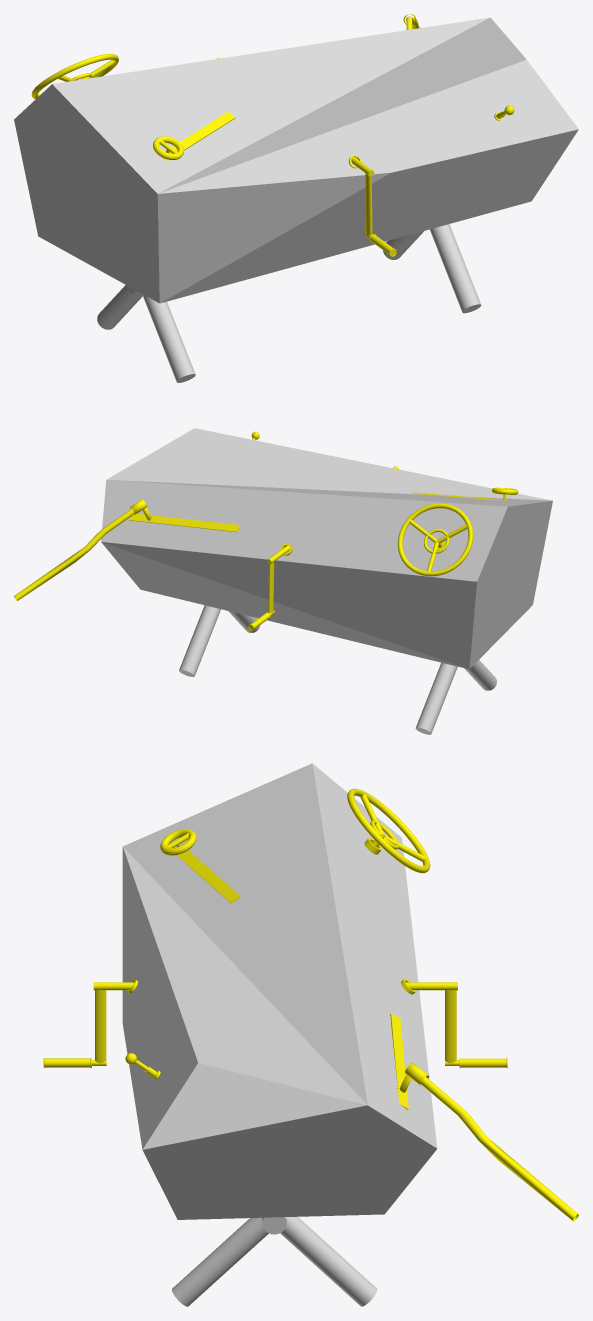
3 renders of one model, top to bottom at view 1: azimuth 30°, elevation 25°; view 2: azimuth 150°, elevation 25°; view 3: azimuth 270°, elevation 25°, orthographic. The views are drawn at different scales.
Visible parts, largest first — view 1: cuve.009, Inst4.018, Cylinder.032, Cylinder.014, Inst Mod.018, Cylinder.033; view 2: cuve.009, Inst4.018, Cylinder.041, Cylinder.033, Cylinder.031, Inst Mod.018, Cylinder.014; view 3: cuve.009, Inst Mod.018, Inst4.018, Cylinder.041, Cylinder.031, Cylinder.032.
Boxes of the visible parts, box(x1,y1,x2,y2) form: cuve.009: box(14, 17, 578, 303); Inst4.018: box(31, 54, 235, 160); Cylinder.032: box(430, 224, 481, 313); Cylinder.014: box(142, 294, 195, 382); Inst Mod.018: box(216, 58, 502, 256); Cylinder.033: box(97, 285, 142, 329); cuve.009: box(101, 428, 552, 669); Inst4.018: box(397, 487, 518, 576); Cylinder.041: box(14, 499, 240, 600); Cylinder.033: box(415, 662, 457, 734); Cylinder.031: box(179, 605, 220, 676); Inst Mod.018: box(248, 466, 445, 630); Cylinder.014: box(464, 660, 496, 690); cuve.009: box(122, 763, 437, 1219); Inst Mod.018: box(43, 838, 507, 1079); Inst4.018: box(160, 788, 430, 903); Cylinder.041: box(390, 1013, 578, 1221); Cylinder.031: box(280, 1216, 377, 1306); Cylinder.032: box(172, 1217, 268, 1306).
Size of the model in its own units: 2.2 by 1.21 by 1.87.
